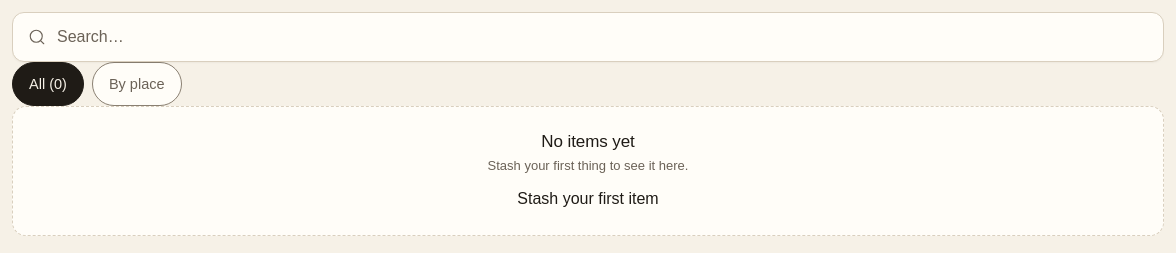
forwards emptyStateAction to StuffList's zero-entries empty state, not the no-matches one
Expected: the link "Stash your first item" is shown, [517, 187, 659, 211]
Type "anything" into the search field named "Search your stuff" at coordinates (588, 37), box [12, 12, 1164, 62]
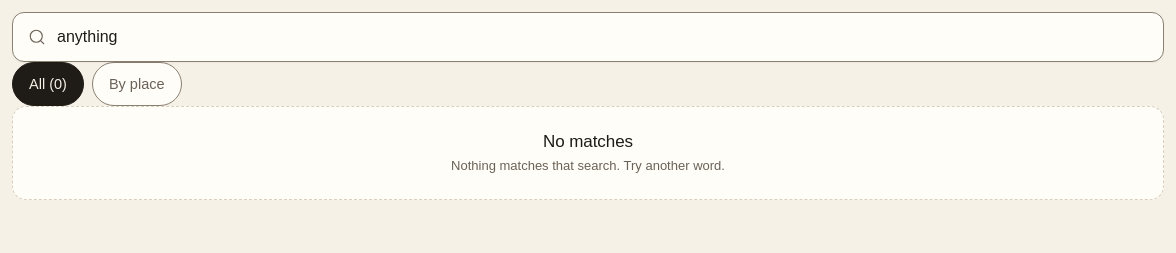
Result: the text "No matches" is shown at [543, 132, 633, 151]
Result: the link "Stash your first item" is gone
